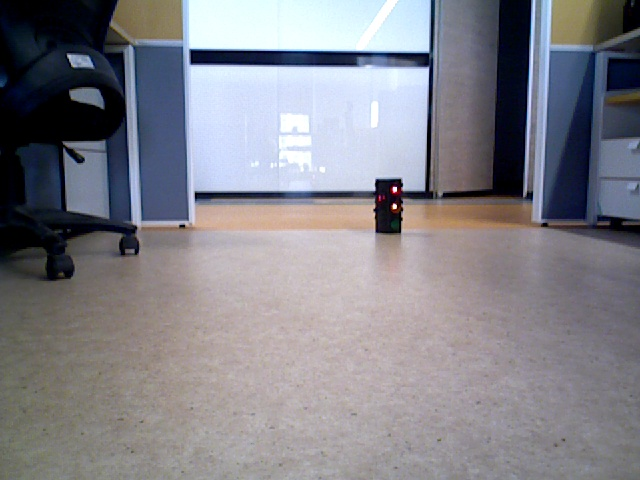red: (376, 178, 399, 229)
